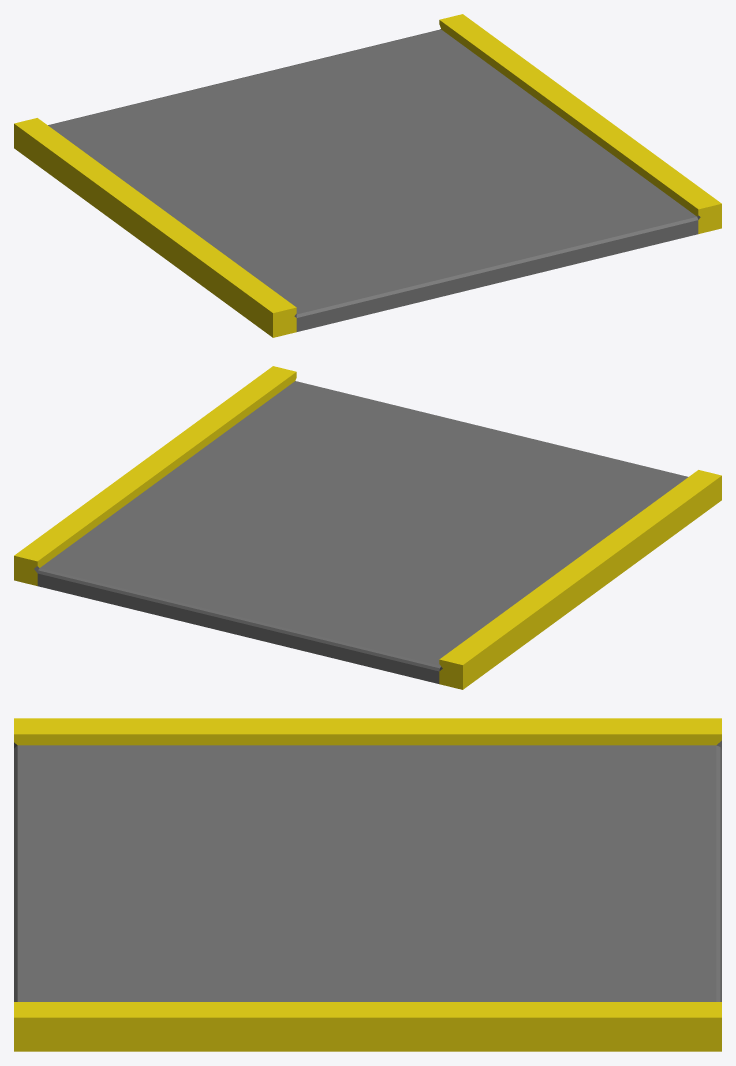
Rendered from Flr-Lane.fbx.
3 views of the same model, one above another, from view 1: azimuth 30°, elevation 25°; view 2: azimuth 150°, elevation 25°; view 3: azimuth 270°, elevation 25° (orthographic). The views are drawn at different scales.
Parts seen in each view (by area): view 1: StageLaneTile; view 2: StageLaneTile; view 3: StageLaneTile.
Part boxes in pixels (box(x1,y1,x2,y2)): StageLaneTile: box(14, 14, 721, 337); StageLaneTile: box(14, 366, 721, 689); StageLaneTile: box(14, 718, 721, 1051).
Bounding box in the file's own units: 1.33 × 0.0698 × 1.33.
